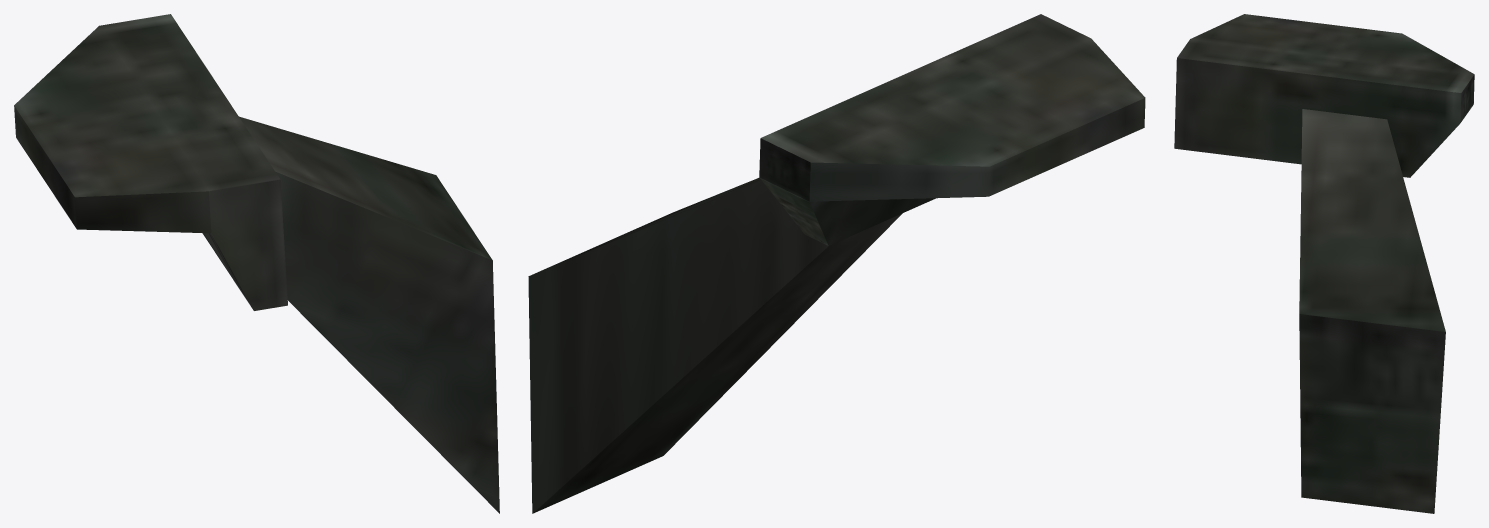
Rendered from vehicle_uni_carrier_blow_piece12.glb.
The picture shows the model from 3 angles, left to right: view 1: azimuth 30°, elevation 25°; view 2: azimuth 150°, elevation 25°; view 3: azimuth 270°, elevation 25°; orthographic projection. The views are drawn at different scales.
Bounding box in the file's own units: 12.59 × 11.28 × 9.15.
1 material, 1 textured.
